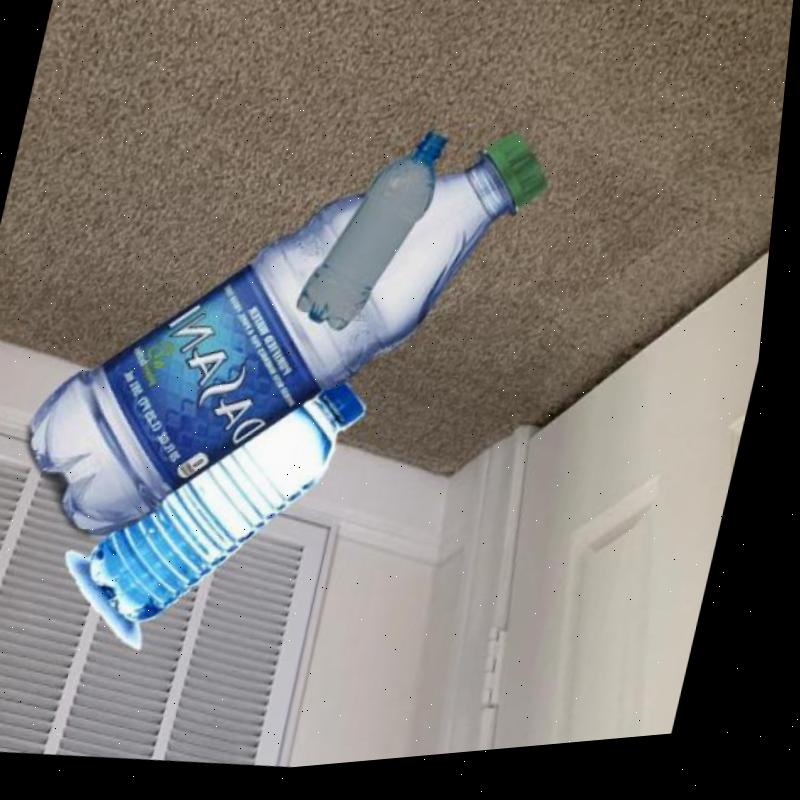botella: (2, 83, 563, 596), (85, 352, 382, 653), (294, 120, 455, 350)
